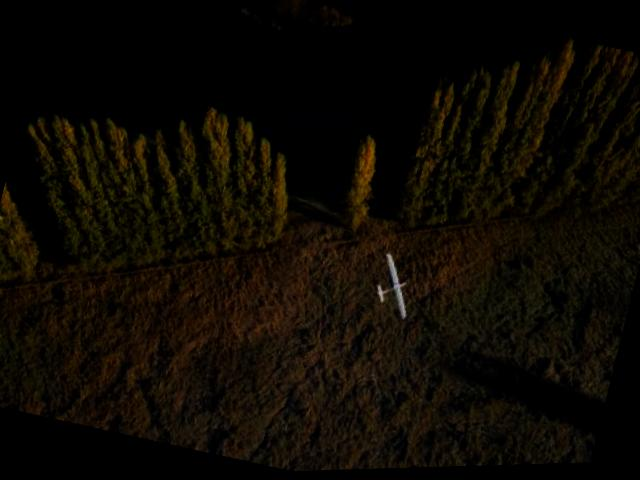uav: (358, 243, 433, 327)
